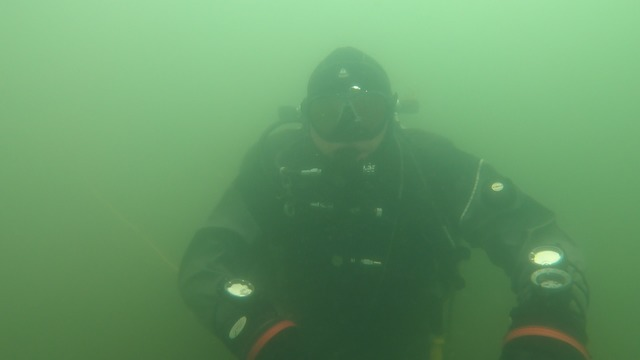Diver: (165, 41, 616, 357)
Head: (289, 45, 406, 189)
